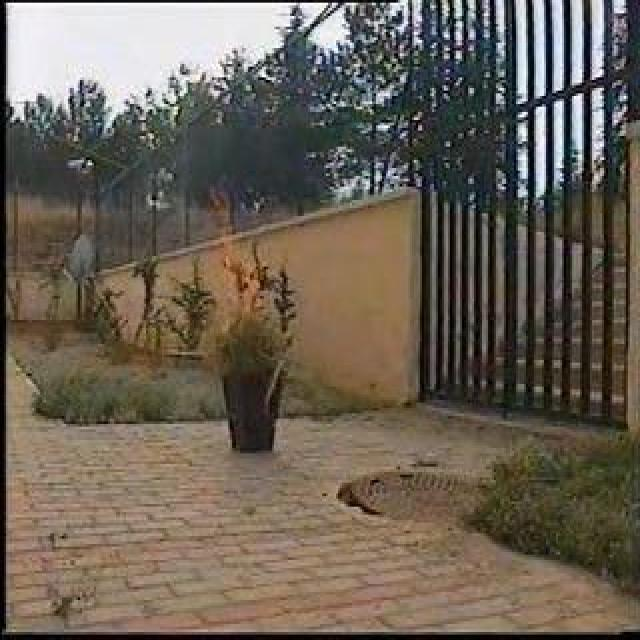Fire: (216, 244, 270, 327)
